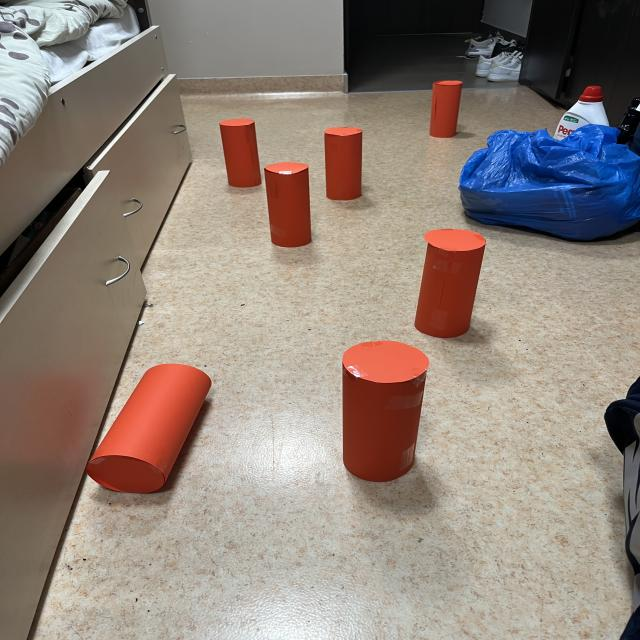przeszkoda: (86, 364, 211, 492), (342, 341, 429, 482), (414, 229, 486, 337), (265, 162, 311, 247), (220, 119, 261, 187), (324, 128, 362, 200), (430, 81, 462, 138)
